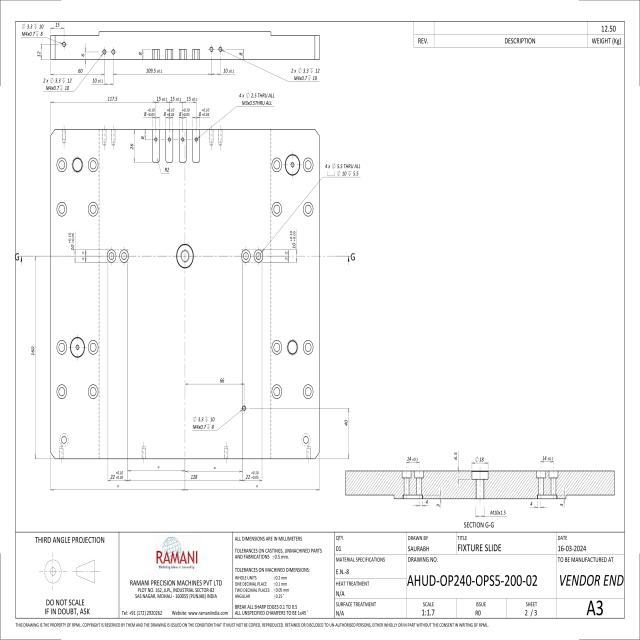dimension: (238, 91, 276, 108), (324, 162, 361, 178), (290, 65, 320, 82), (43, 77, 72, 92), (20, 21, 44, 38), (192, 415, 216, 431), (288, 228, 298, 250), (67, 230, 75, 251), (246, 470, 260, 480), (110, 470, 124, 480), (489, 509, 507, 516), (144, 68, 164, 74), (163, 108, 176, 117), (198, 108, 211, 117), (144, 108, 156, 117), (179, 108, 191, 117), (223, 66, 236, 74), (91, 77, 105, 84), (542, 454, 554, 462), (107, 94, 118, 102), (474, 455, 485, 463), (156, 95, 168, 102), (170, 95, 182, 102), (186, 95, 198, 102), (407, 456, 420, 462), (36, 49, 42, 59), (190, 473, 198, 480), (31, 345, 36, 356), (343, 418, 348, 428), (453, 451, 458, 461), (77, 67, 84, 74), (54, 21, 60, 29), (164, 166, 170, 174), (129, 142, 134, 151), (219, 377, 225, 384), (138, 50, 144, 56), (80, 52, 85, 58), (238, 51, 243, 57), (425, 499, 430, 505), (529, 500, 533, 507), (140, 135, 145, 140), (436, 503, 440, 509), (560, 502, 564, 506)
